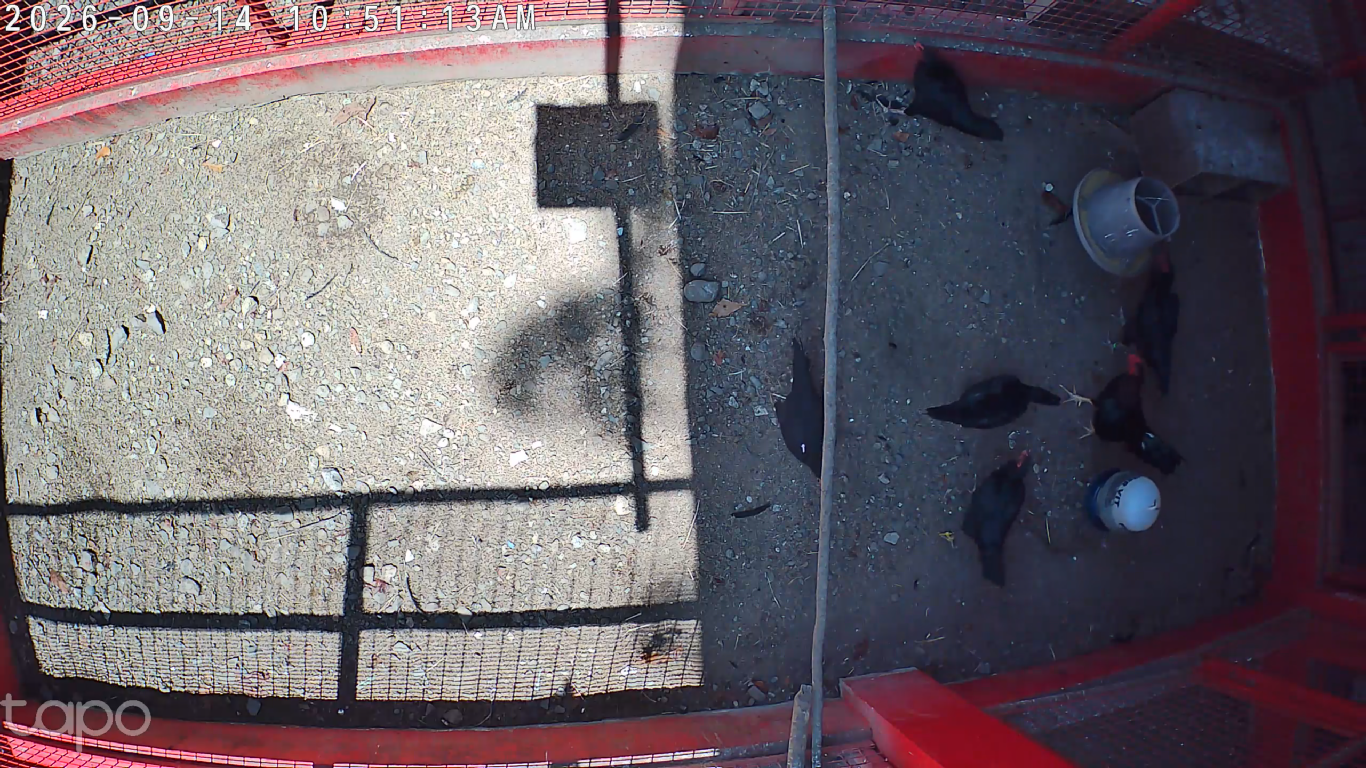Chicken: (934, 449, 1034, 592), (873, 41, 1006, 142), (765, 338, 825, 484), (920, 372, 1065, 427)
Leg_Band_Yellow: (940, 530, 958, 540)
Rooster: (1055, 347, 1182, 476)
